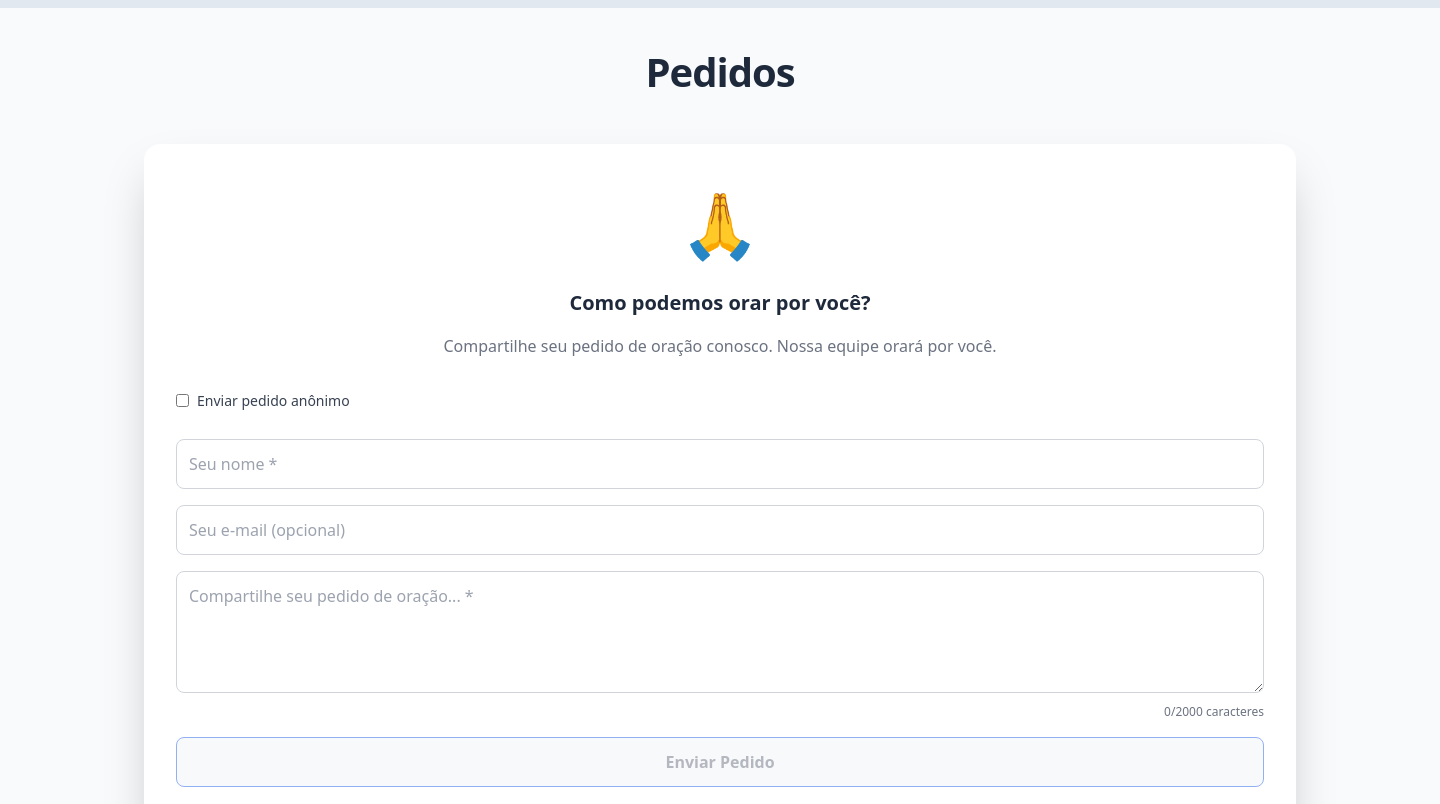
it: ComponentRenderer › renderiza prayer request e processa submit com sucesso
Type "Maria" into the field with placeholder "Seu nome *". click: (720, 464)
box: [176,439,1264,489]
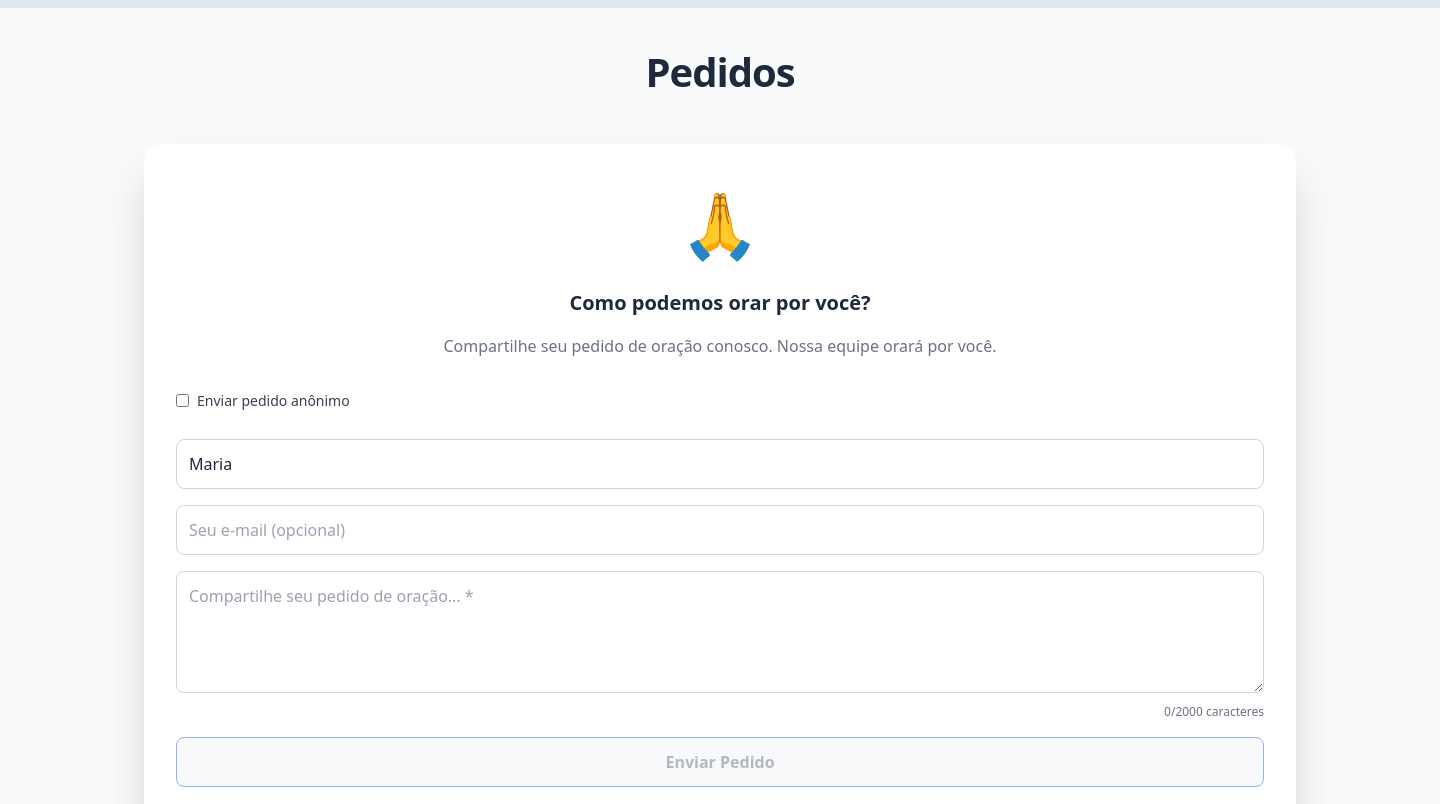
Type "Pedido de oração suficientemente longo" into the text box with placeholder "Compartilhe seu pedido de oração... *". click: (720, 632)
box: [176,571,1264,693]
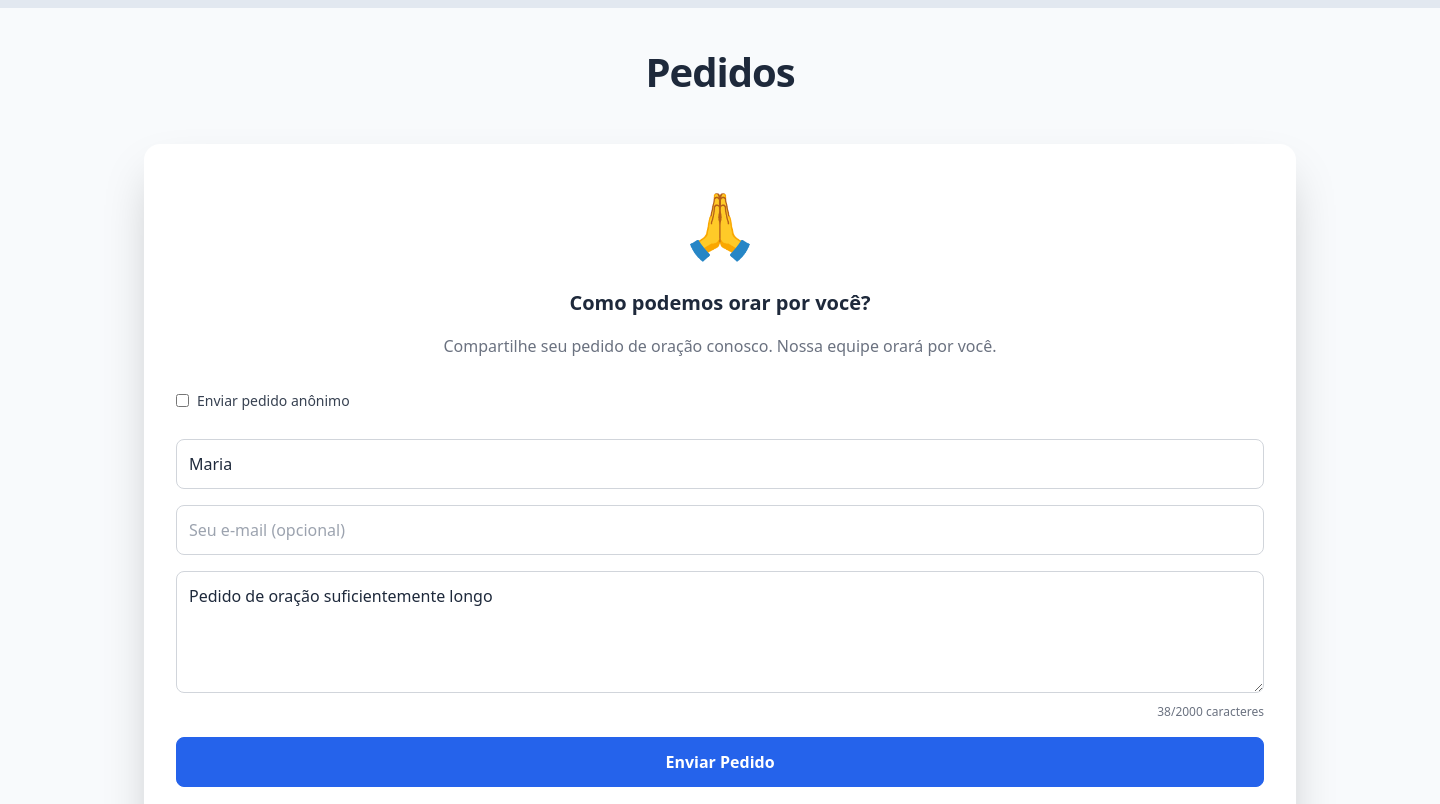
Click the button "Enviar Pedido". click: (720, 762)
box: [176,737,1264,787]
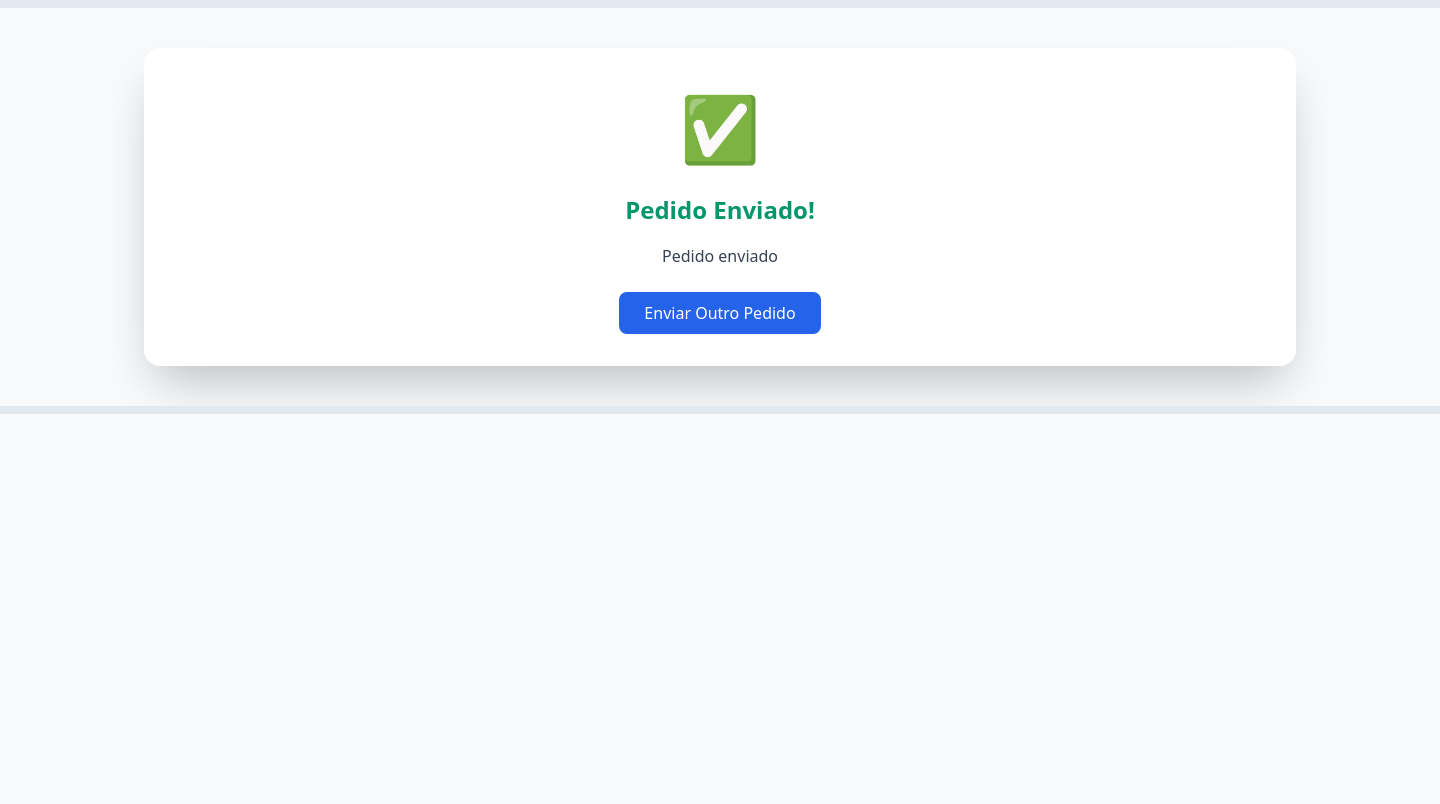
Expected: the heading "Pedido Enviado!" is shown, [625,193,815,226]
